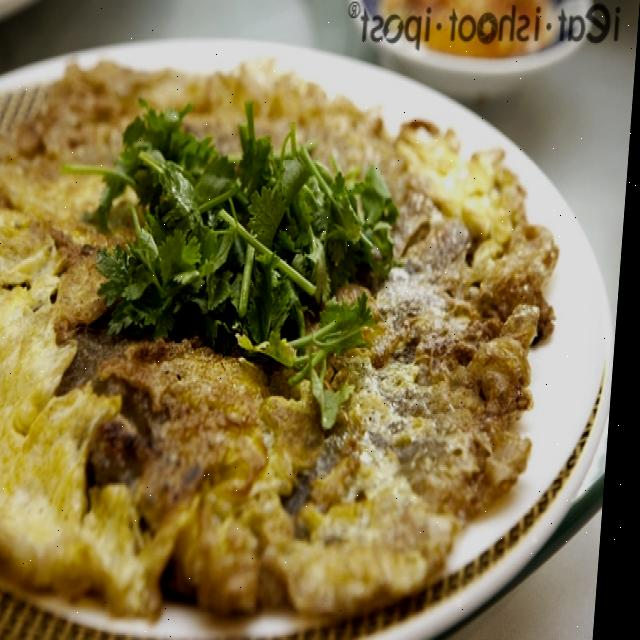熟制海鲜: (0, 38, 610, 632)
